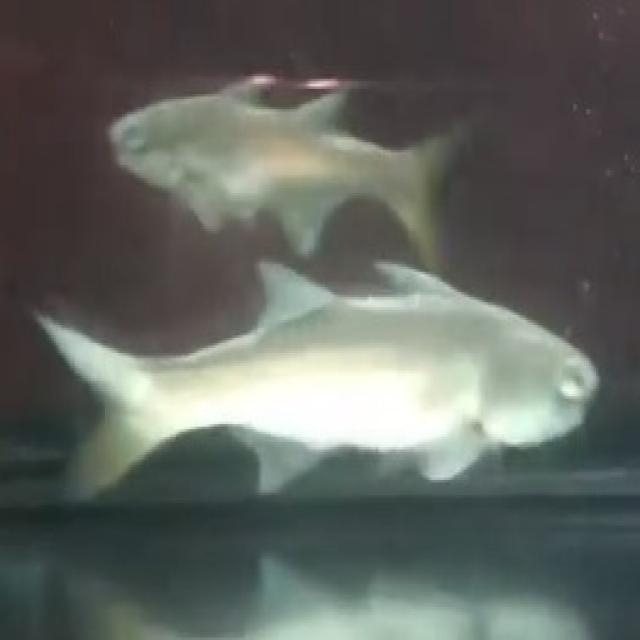Fourfinger-Threadfin: (41, 271, 599, 518), (90, 41, 466, 262)
